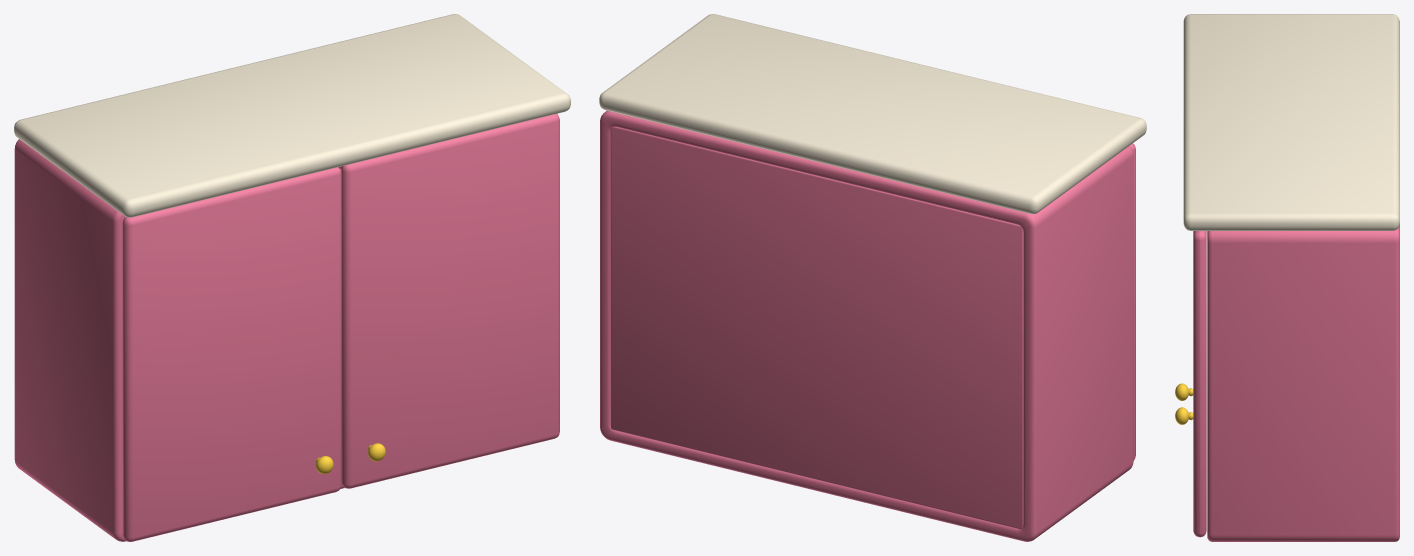
Rendered from armario_parede_2portas_verde_rosa.glb.
3 renders of one model, left to right at view 1: azimuth 30°, elevation 25°; view 2: azimuth 150°, elevation 25°; view 3: azimuth 270°, elevation 25°, orthographic. The views are drawn at different scales.
Parts seen in each view (by area): view 1: armario_parede_2portas_verde_rosa, porta_1, porta_2; view 2: armario_parede_2portas_verde_rosa, porta_1; view 3: armario_parede_2portas_verde_rosa, porta_2.
Boxes of the visible parts, left/top/right/bottom form: armario_parede_2portas_verde_rosa: left=14, top=14, right=570, bottom=541; porta_1: left=122, top=167, right=341, bottom=541; porta_2: left=341, top=114, right=559, bottom=488; armario_parede_2portas_verde_rosa: left=599, top=14, right=1146, bottom=541; porta_1: left=1129, top=143, right=1135, bottom=460; armario_parede_2portas_verde_rosa: left=1183, top=14, right=1399, bottom=541; porta_2: left=1175, top=231, right=1206, bottom=537.
Size of the model in its own units: 0.798 by 0.6 by 0.37.
1 material, 1 textured.
